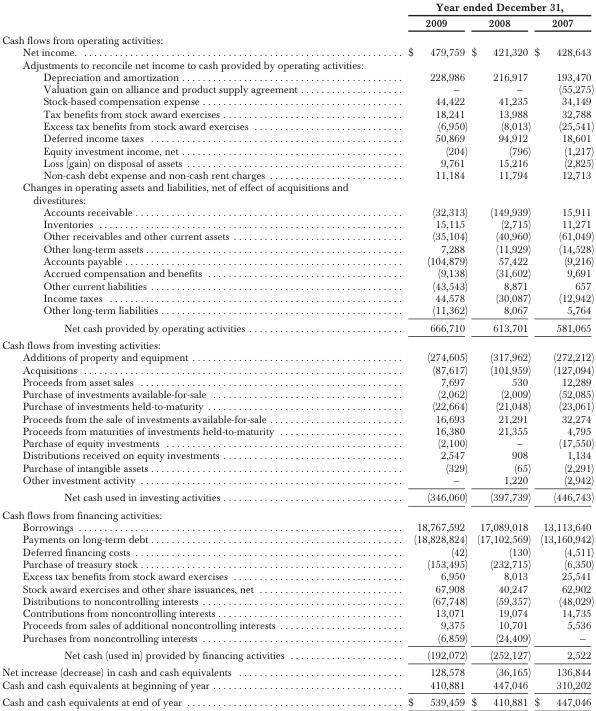table: (1, 0, 593, 708)
table column: (1, 0, 351, 708), (351, 0, 468, 708), (468, 0, 531, 708), (531, 0, 593, 708)
table column header: (1, 0, 593, 31)
table projected row header: (1, 180, 593, 205), (1, 505, 593, 520), (1, 31, 593, 45), (1, 336, 593, 350), (1, 58, 593, 70)
table row: (1, 180, 593, 205), (1, 318, 593, 336), (1, 14, 593, 31), (1, 488, 593, 505), (1, 646, 593, 663), (1, 303, 593, 318), (1, 473, 593, 488), (1, 505, 593, 520), (1, 631, 593, 646), (1, 663, 593, 678), (1, 678, 593, 693), (1, 693, 593, 708), (1, 0, 593, 14), (1, 31, 593, 45), (1, 336, 593, 350), (1, 45, 593, 58), (1, 82, 593, 95), (1, 131, 593, 144), (1, 217, 593, 230), (1, 266, 593, 279), (1, 350, 593, 363), (1, 399, 593, 412), (1, 436, 593, 449), (1, 520, 593, 533), (1, 569, 593, 582), (1, 618, 593, 631), (1, 58, 593, 70), (1, 70, 593, 82), (1, 95, 593, 107), (1, 107, 593, 119), (1, 119, 593, 131), (1, 144, 593, 156), (1, 156, 593, 168), (1, 168, 593, 180), (1, 205, 593, 217), (1, 230, 593, 242), (1, 242, 593, 254), (1, 254, 593, 266), (1, 279, 593, 291), (1, 291, 593, 303), (1, 363, 593, 375), (1, 375, 593, 387), (1, 387, 593, 399), (1, 412, 593, 424), (1, 424, 593, 436), (1, 449, 593, 461), (1, 461, 593, 473), (1, 533, 593, 545), (1, 545, 593, 557), (1, 557, 593, 569), (1, 582, 593, 594), (1, 594, 593, 606), (1, 606, 593, 618)
table spanning cell: (351, 0, 593, 14)
